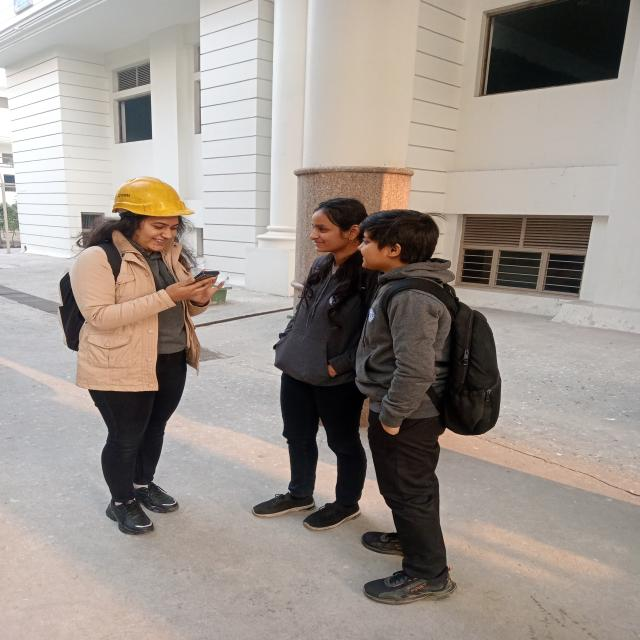no jacket: (66, 181, 200, 539)
unsafe: (349, 206, 475, 616), (258, 198, 372, 530)
